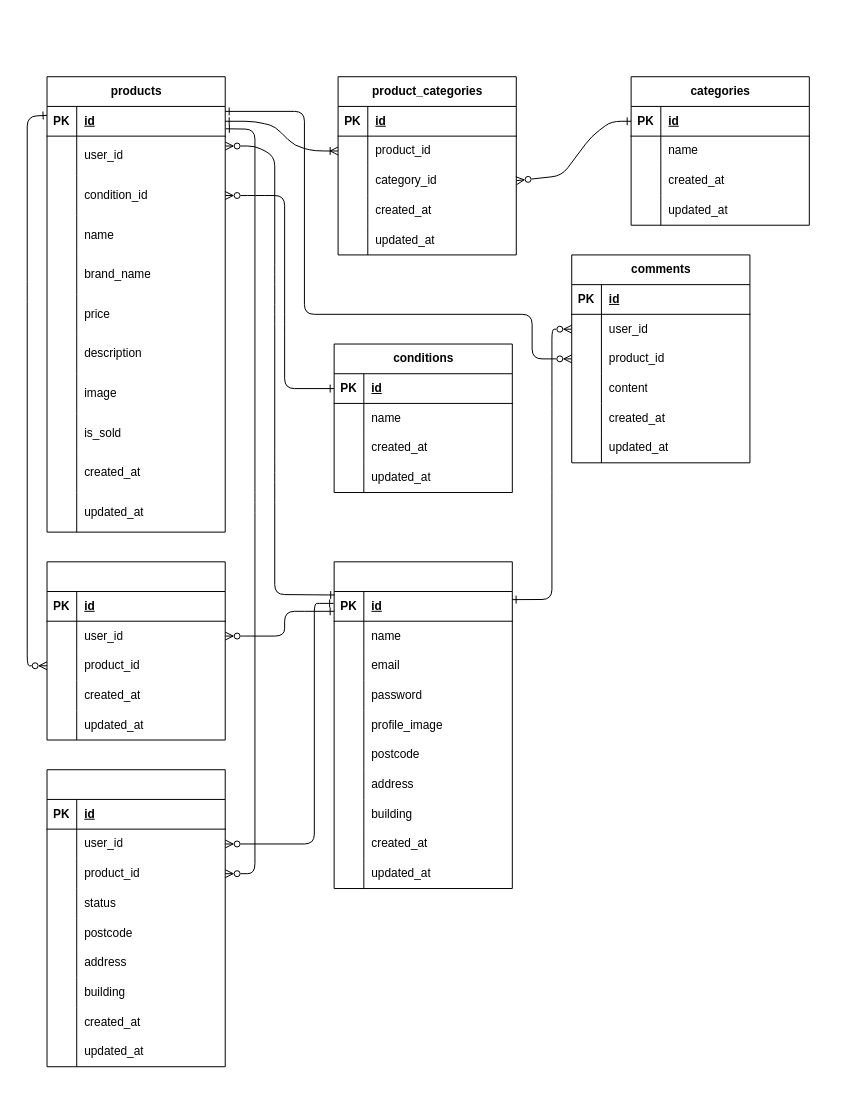
Some shapes in this 845 by 1103 pixel diagram are drawn without their labels. Here are the shapes that lost their labels. From the top down, the box of each, then its label:
(46, 561, 225, 740): likes
(333, 561, 512, 889): users
(46, 769, 225, 1067): orders
